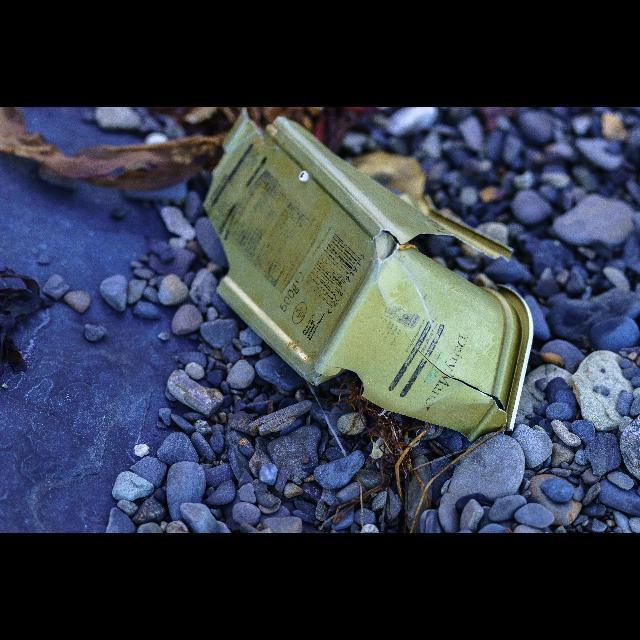Plastic: (204, 109, 534, 444)
